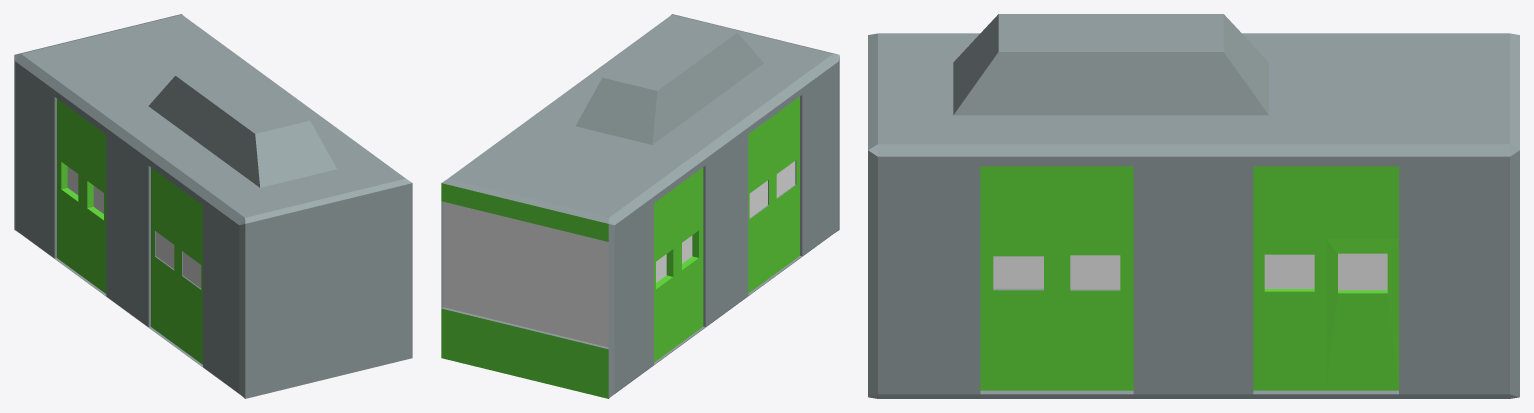
Rendered from temperaryobject.gltf.
The picture shows the model from 3 angles, left to right: view 1: azimuth 30°, elevation 25°; view 2: azimuth 150°, elevation 25°; view 3: azimuth 270°, elevation 25°; orthographic projection. The views are drawn at different scales.
Visible parts, largest first — view 1: Cube; view 2: Cube; view 3: Cube.
Part boxes in pixels (<box>): Cube: <box>14,14,412,398</box>; Cube: <box>441,14,839,398</box>; Cube: <box>868,14,1519,398</box>.
Bounding box in the file's own units: 2 × 2.44 × 4.64.
